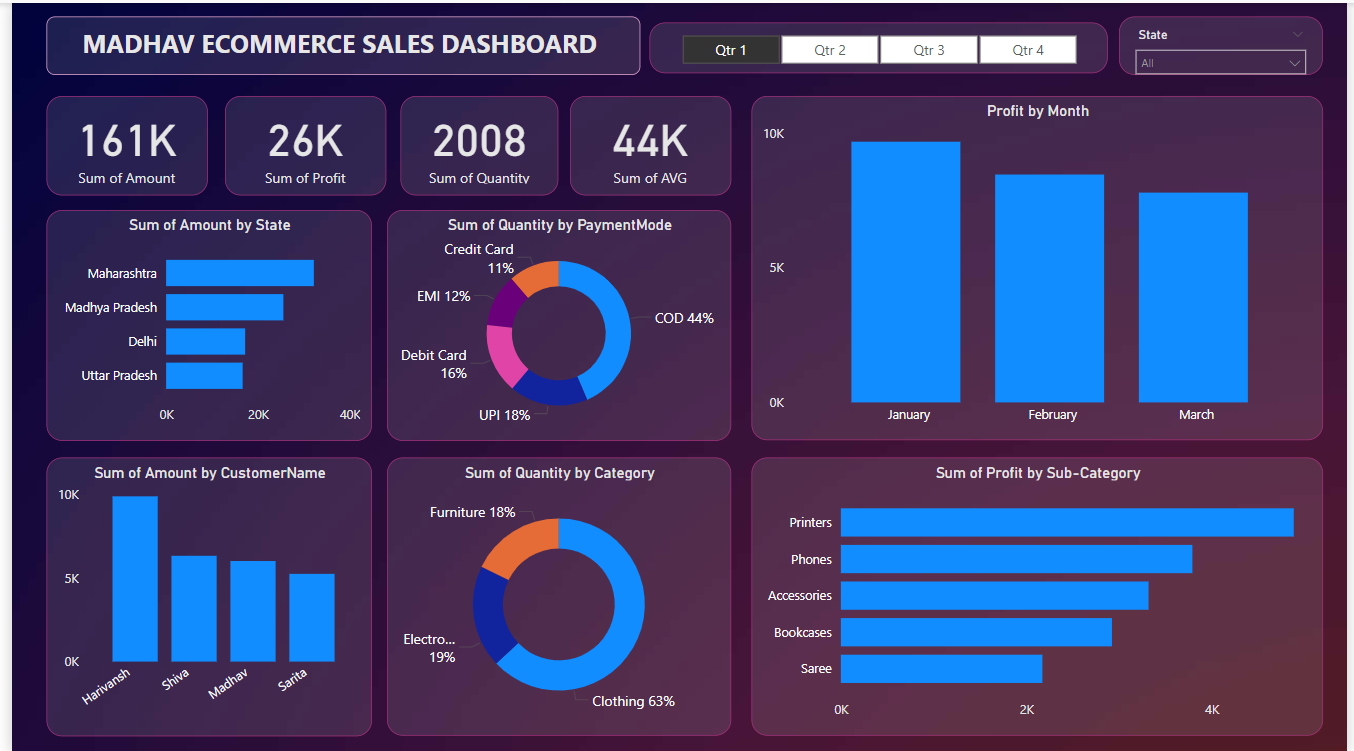

Layout of this report page (visuals, bound fields, positions):
{"tool":"powerbi","page":{"name":"Page 1","canvas":[1280,720],"ordinal":0},"visuals":[{"type":"textbox","box":[33.3,13.6,569.3,56],"z":0},{"type":"columnChart","title":"Profit by Month","fields":{"Y":["Details.Profit"],"Category":["Orders.Order Date.Variation.Date Hierarchy.Month"]},"box":[708.6,89.3,548.1,330.1],"z":1000},{"type":"barChart","fields":{"Category":["Details.Sub-Category"],"Y":["Details.Profit"]},"box":[708.6,436.1,548.1,266.5],"z":2000},{"type":"donutChart","fields":{"Category":["Details.Category"],"Y":["Details.Quantity"]},"box":[358.9,436.1,330.1,266.5],"z":3000},{"type":"donutChart","fields":{"Y":["Details.Quantity"],"Category":["Details.PaymentMode"]},"box":[358.9,198.4,330.1,221.1],"z":4000},{"type":"card","fields":{"Values":["Details.Amount"]},"box":[33.3,89.3,154.4,95.4],"z":5000},{"type":"card","fields":{"Values":["Details.Quantity"]},"box":[372.5,89.3,151.4,95.4],"z":6000},{"type":"card","fields":{"Values":["Details.Profit"]},"box":[204.4,89.3,154.4,95.4],"z":7000},{"type":"card","fields":{"Values":["Details.AVG"]},"box":[534.5,89.3,154.4,95.4],"z":8000},{"type":"barChart","fields":{"Category":["Orders.State"],"Y":["Details.Amount"]},"box":[33.3,198.4,311.9,221.1],"z":9000},{"type":"columnChart","fields":{"Category":["Orders.CustomerName"],"Y":["Details.Amount"]},"box":[33,436,312,267],"z":10000},{"type":"slicer","fields":{"Values":["Orders.Order Date.Variation.Date Hierarchy.Quarter"]},"box":[611.7,18.2,439.1,48.5],"z":11000},{"type":"slicer","fields":{"Values":["Orders.State"]},"box":[1061.5,13.6,195.3,56],"z":12000}]}

Visuals, with their boxes in screenshot pixels (x1, y1, x2, y2), scaled from the page's 1280x720 canvas onto the 1354x751 screenshot:
textbox: l=35, t=14, r=637, b=73
"Profit by Month" columnChart: l=750, t=93, r=1329, b=437
barChart - Details.Sub-Category x Details.Profit: l=750, t=455, r=1329, b=733
donutChart - Details.Category x Details.Quantity: l=380, t=455, r=729, b=733
donutChart - Details.Quantity x Details.PaymentMode: l=380, t=207, r=729, b=438
card - Details.Amount: l=35, t=93, r=199, b=193
card - Details.Quantity: l=394, t=93, r=554, b=193
card - Details.Profit: l=216, t=93, r=380, b=193
card - Details.AVG: l=565, t=93, r=729, b=193
barChart - Orders.State x Details.Amount: l=35, t=207, r=365, b=438
columnChart - Orders.CustomerName x Details.Amount: l=35, t=455, r=365, b=733
slicer - Orders.Order Date.Variation.Date Hierarchy.Quarter: l=647, t=19, r=1112, b=70
slicer - Orders.State: l=1123, t=14, r=1329, b=73
